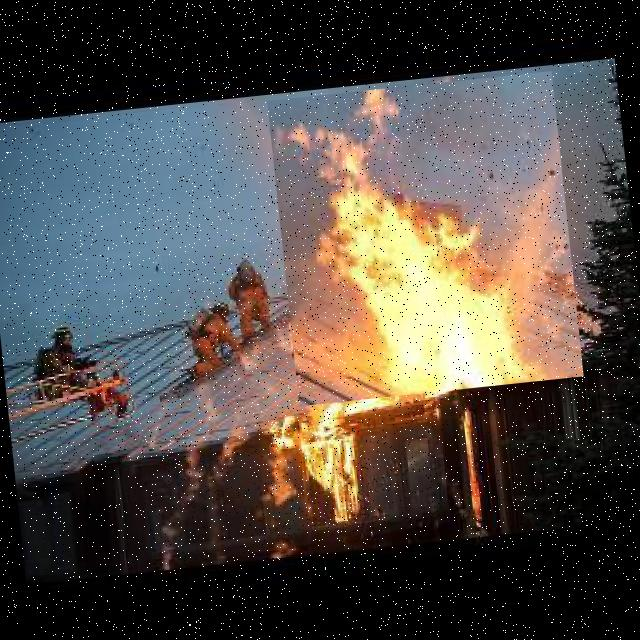fire: (266, 70, 584, 406)
